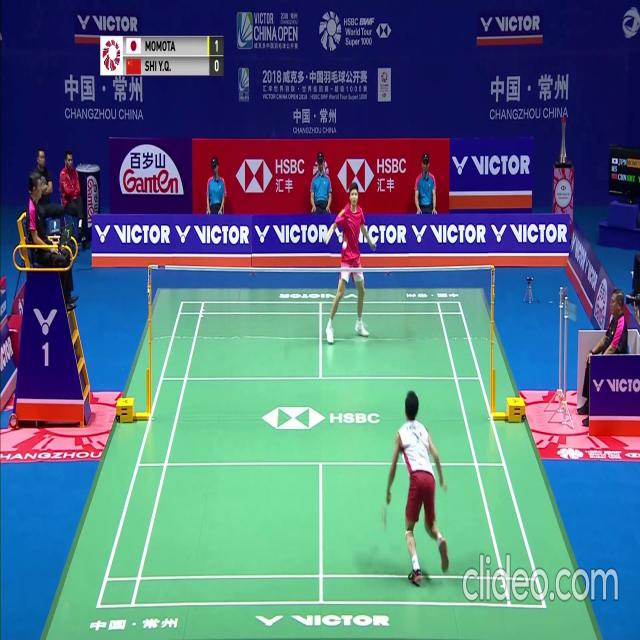Shuttlecock: (341, 242, 346, 250)
